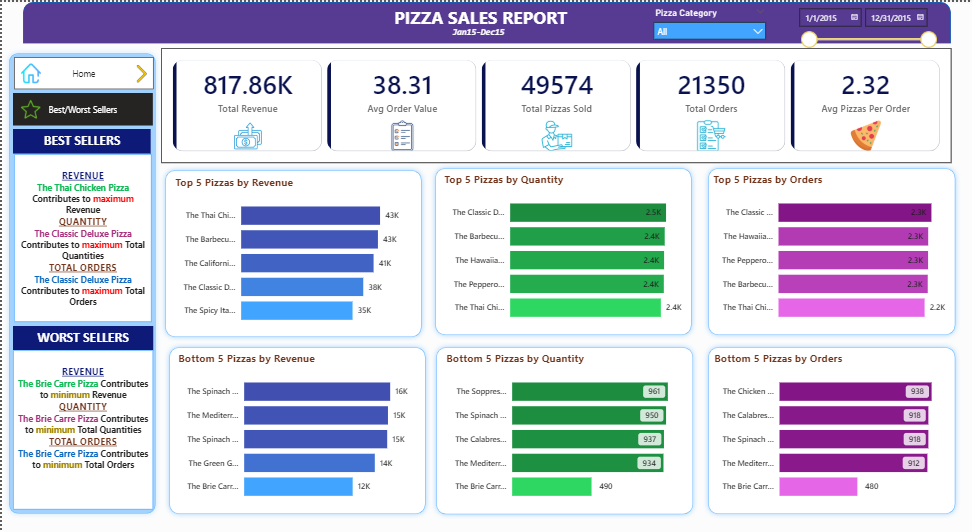

The page's visual inventory and layout, read from the dashboard file:
{"tool":"powerbi","page":{"name":"Best/Worst Sellers","canvas":[1500,820],"ordinal":1},"visuals":[{"type":"cardVisual","fields":{"Data":["pizza_sales.Total Revenue","pizza_sales.Avg Order Value","pizza_sales.Total Pizzas Sold","pizza_sales.Total Orders","pizza_sales.Avg Pizzas Per Order"]},"box":[246.7,71.7,1223.3,178.3],"z":0},{"type":"shape","box":[32.2,0,1435.6,64.4],"z":1000},{"type":"textbox","box":[601.7,0,298.3,50.8],"z":2000},{"type":"textbox","box":[691.5,32.2,118.6,35.6],"z":3000},{"type":"shape","box":[244.3,251.4,412.9,274.3],"z":4000},{"type":"shape","box":[3.3,71.7,242.5,728.3],"z":5000},{"type":"textbox","box":[17.8,196.7,213.3,37.8],"z":6000},{"type":"textbox","box":[18.9,234.4,213.3,260],"z":7000},{"type":"textbox","box":[16.7,500.8,216.7,38.3],"z":8000},{"type":"textbox","box":[16.7,539.2,216.7,246.7],"z":9000},{"type":"slicer","fields":{"Values":["pizza_sales.pizza_category"]},"box":[998.6,2.9,194.3,60],"z":10000},{"type":"slicer","fields":{"Values":["pizza_sales.order_date"]},"box":[1221.4,0,234.3,81.4],"z":11000},{"type":"shape","box":[662.9,248.6,412.9,274.3],"z":12000},{"type":"shape","box":[1084.3,248.6,398.6,274.3],"z":13000},{"type":"shape","box":[250,525.7,412.9,274.3],"z":14000},{"type":"shape","box":[664.2,525.4,413.4,274.6],"z":15000},{"type":"shape","box":[1084.3,525.7,398.6,274.3],"z":16000},{"type":"barChart","title":"Top 5 Pizzas by Revenue","fields":{"Category":["pizza_sales.pizza_name"],"Y":["pizza_sales.Total Revenue"]},"box":[262.7,267.2,377.6,244.8],"z":17000},{"type":"barChart","title":"Bottom 5 Pizzas by Revenue","fields":{"Category":["pizza_sales.pizza_name"],"Y":["pizza_sales.Total Revenue"]},"box":[267.2,540.3,377.6,244.8],"z":18000},{"type":"barChart","title":"Top 5 Pizzas by Quantity","fields":{"Category":["pizza_sales.pizza_name"],"Y":["pizza_sales.Total Pizzas Sold"]},"box":[679.1,262.7,377.6,244.8],"z":19000},{"type":"barChart","title":"Bottom 5 Pizzas by Quantity","fields":{"Category":["pizza_sales.pizza_name"],"Y":["pizza_sales.Total Pizzas Sold"]},"box":[682.1,540.3,377.6,244.8],"z":20000},{"type":"barChart","title":"Top 5 Pizzas by Orders","fields":{"Category":["pizza_sales.pizza_name"],"Y":["pizza_sales.Total Orders"]},"box":[1095.5,262.7,373.1,244.8],"z":21000},{"type":"barChart","title":"Bottom 5 Pizzas by Orders","fields":{"Category":["pizza_sales.pizza_name"],"Y":["pizza_sales.Total Orders"]},"box":[1097,540.3,373.1,244.8],"z":22000},{"type":"pageNavigator","box":[17.8,141.1,216.7,50],"z":23000},{"type":"pageNavigator","box":[18.9,85.6,216.7,50],"z":24000},{"type":"image","box":[26.2,95,36.9,31.9],"z":24001},{"type":"image","box":[203.1,97.5,27.5,26.9],"z":24002},{"type":"image","box":[30,150.6,30,31.2],"z":24003}]}

Visuals, with their boxes in screenshot pixels (x1, y1, x2, y2), scaled from the page's 1500x820 canvas onto the 972x532 screenshot:
cardVisual - pizza_sales.Total Revenue x pizza_sales.Avg Order Value: {"x1": 160, "y1": 47, "x2": 953, "y2": 162}
shape: {"x1": 21, "y1": 0, "x2": 951, "y2": 42}
textbox: {"x1": 390, "y1": 0, "x2": 583, "y2": 33}
textbox: {"x1": 448, "y1": 21, "x2": 525, "y2": 44}
shape: {"x1": 158, "y1": 163, "x2": 426, "y2": 341}
shape: {"x1": 2, "y1": 47, "x2": 159, "y2": 519}
textbox: {"x1": 12, "y1": 128, "x2": 150, "y2": 152}
textbox: {"x1": 12, "y1": 152, "x2": 150, "y2": 321}
textbox: {"x1": 11, "y1": 325, "x2": 151, "y2": 350}
textbox: {"x1": 11, "y1": 350, "x2": 151, "y2": 510}
slicer - pizza_sales.pizza_category: {"x1": 647, "y1": 2, "x2": 773, "y2": 41}
slicer - pizza_sales.order_date: {"x1": 791, "y1": 0, "x2": 943, "y2": 53}
shape: {"x1": 430, "y1": 161, "x2": 697, "y2": 339}
shape: {"x1": 703, "y1": 161, "x2": 961, "y2": 339}
shape: {"x1": 162, "y1": 341, "x2": 430, "y2": 519}
shape: {"x1": 430, "y1": 341, "x2": 698, "y2": 519}
shape: {"x1": 703, "y1": 341, "x2": 961, "y2": 519}
"Top 5 Pizzas by Revenue" barChart: {"x1": 170, "y1": 173, "x2": 415, "y2": 332}
"Bottom 5 Pizzas by Revenue" barChart: {"x1": 173, "y1": 351, "x2": 418, "y2": 509}
"Top 5 Pizzas by Quantity" barChart: {"x1": 440, "y1": 170, "x2": 685, "y2": 329}
"Bottom 5 Pizzas by Quantity" barChart: {"x1": 442, "y1": 351, "x2": 687, "y2": 509}
"Top 5 Pizzas by Orders" barChart: {"x1": 710, "y1": 170, "x2": 952, "y2": 329}
"Bottom 5 Pizzas by Orders" barChart: {"x1": 711, "y1": 351, "x2": 953, "y2": 509}
pageNavigator: {"x1": 12, "y1": 92, "x2": 152, "y2": 124}
pageNavigator: {"x1": 12, "y1": 56, "x2": 153, "y2": 88}
image: {"x1": 17, "y1": 62, "x2": 41, "y2": 82}
image: {"x1": 132, "y1": 63, "x2": 149, "y2": 81}
image: {"x1": 19, "y1": 98, "x2": 39, "y2": 118}
